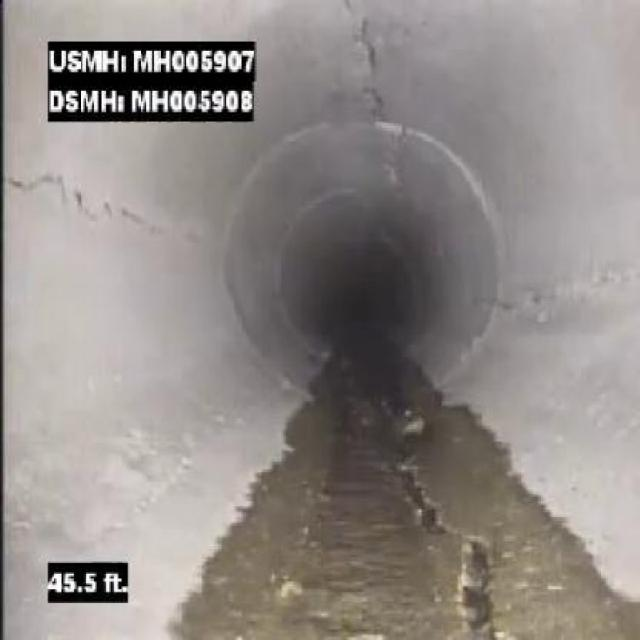Buckling: (449, 528, 502, 638), (397, 451, 455, 543)
Crack: (13, 164, 158, 242), (328, 6, 412, 116), (499, 262, 623, 316)
